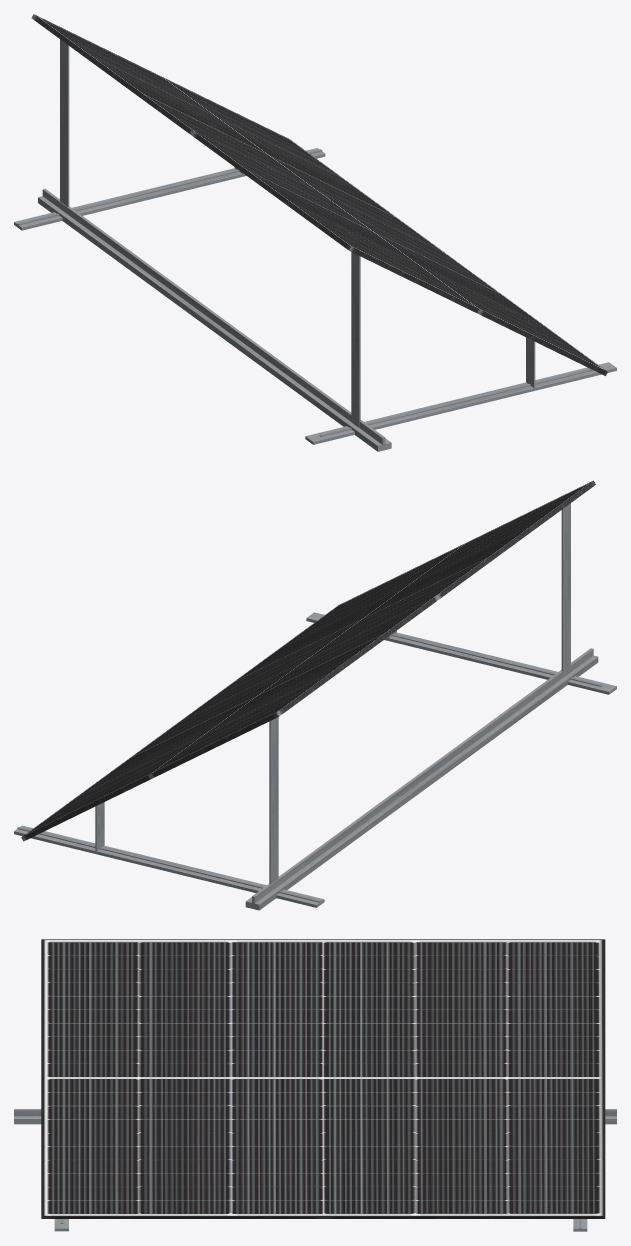
The model's file is solar_panel_flat_roof.glb.
3 renders of one model, top to bottom at view 1: azimuth 30°, elevation 25°; view 2: azimuth 150°, elevation 25°; view 3: azimuth 270°, elevation 25°, orthographic. The views are drawn at different scales.
Parts seen in each view (by area): view 1: panel; view 2: panel; view 3: panel.
Part boxes in pixels (left/top/right/bottom): panel: left=14, top=14, right=616, bottom=451; panel: left=14, top=480, right=616, bottom=910; panel: left=14, top=939, right=616, bottom=1231.
Bounding box in the file's own units: 2.21 × 1.36 × 4.27.
2 materials, 2 textured.
